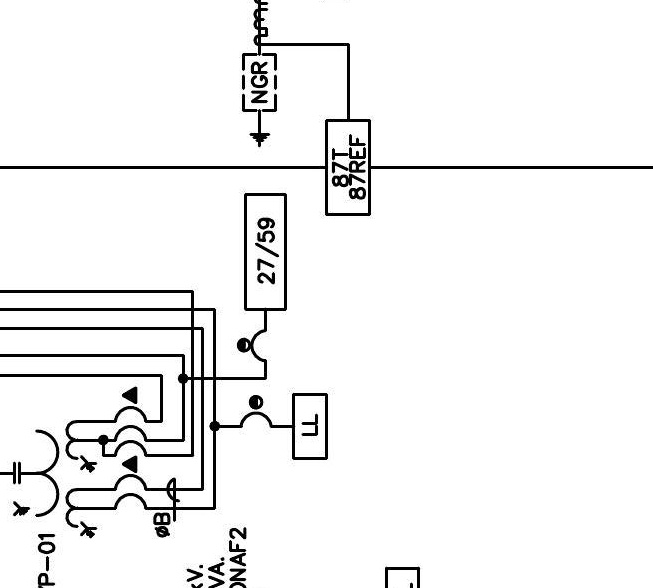115_cvt_3p: (13, 419, 98, 539)
LL: (292, 393, 328, 460)
NGR_future: (241, 53, 278, 148)
